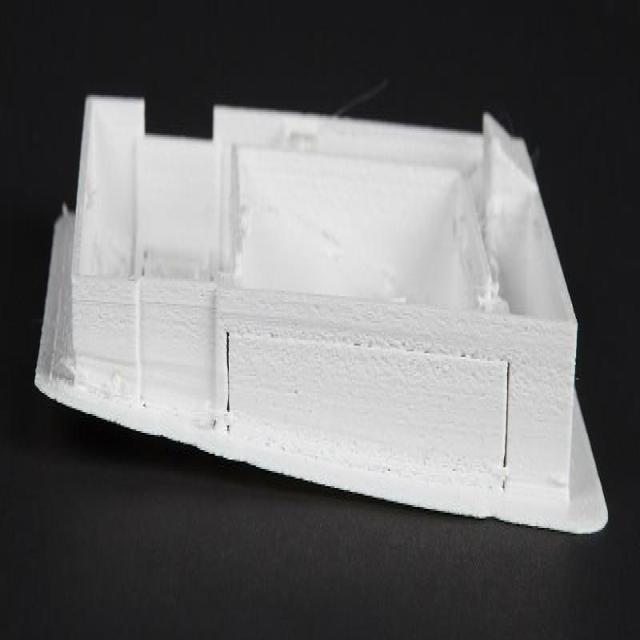cracks: (494, 361, 523, 504), (215, 322, 238, 449)
